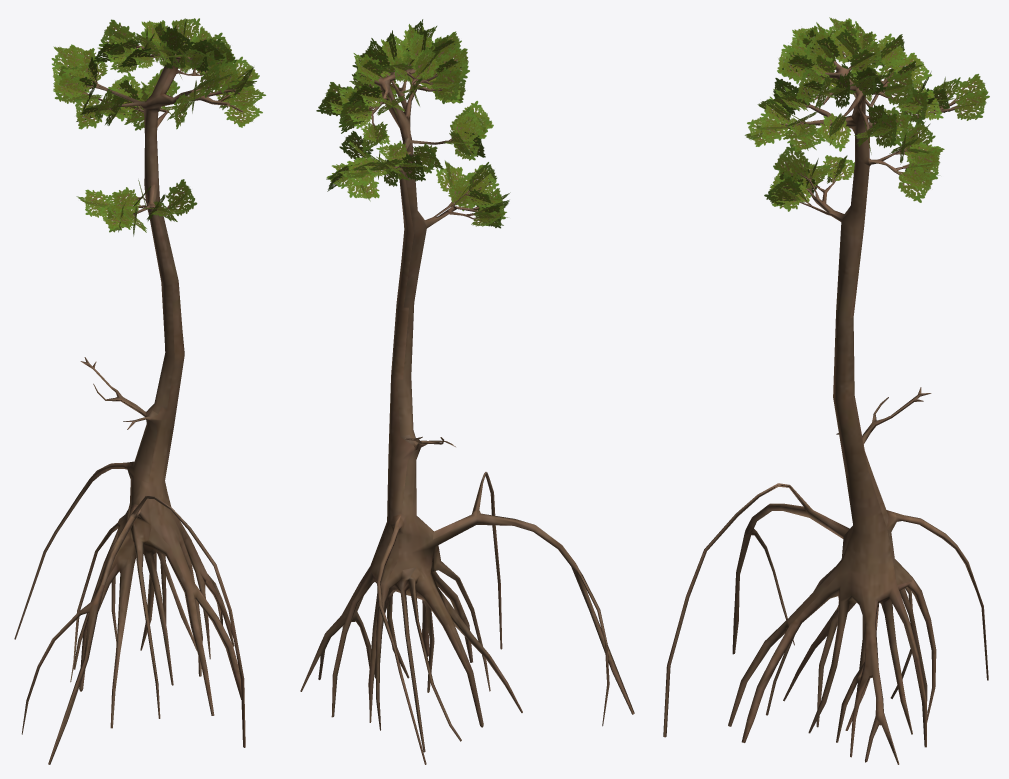
Rendered from duoc-cao.glb.
The picture shows the model from 3 angles, left to right: view 1: azimuth 30°, elevation 25°; view 2: azimuth 150°, elevation 25°; view 3: azimuth 270°, elevation 25°; orthographic projection. The views are drawn at different scales.
Parts seen in each view (by area): view 1: CHA_ENV_TallMangrove, Leaves; view 2: CHA_ENV_TallMangrove, Leaves; view 3: CHA_ENV_TallMangrove, Leaves.
Part boxes in pixels (left/top/right/bottom): CHA_ENV_TallMangrove: left=14, top=44, right=245, bottom=764; Leaves: left=51, top=18, right=265, bottom=236; CHA_ENV_TallMangrove: left=300, top=52, right=634, bottom=764; Leaves: left=316, top=19, right=510, bottom=228; CHA_ENV_TallMangrove: left=663, top=49, right=988, bottom=764; Leaves: left=744, top=17, right=989, bottom=211.
Size of the model in its own units: 0.3914 by 1 by 0.4191.
Materials: 2 (2 with a texture image).
